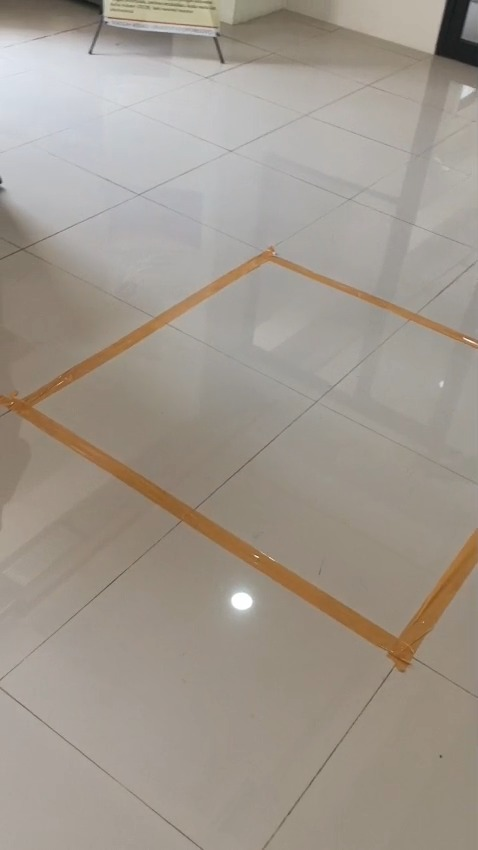floor marking: (0, 248, 477, 671)
